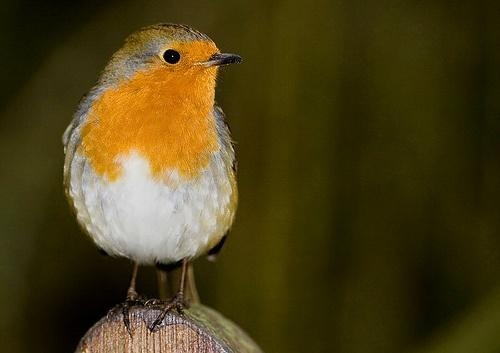bird: (61, 22, 242, 336)
